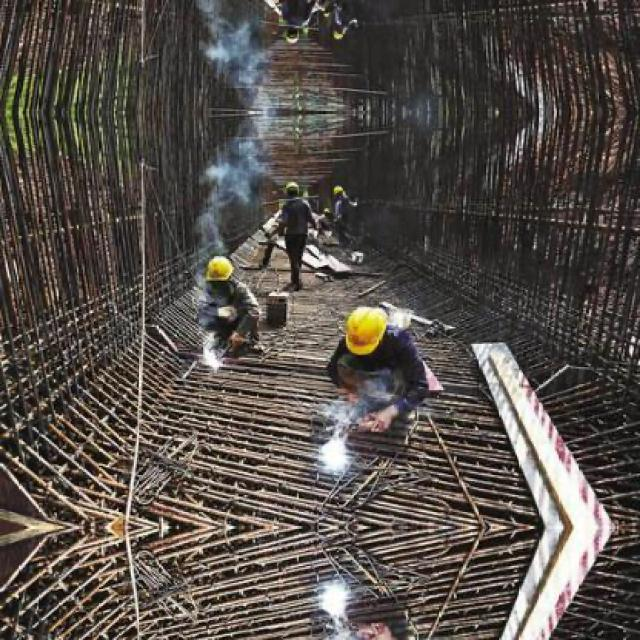helmet: (343, 304, 389, 355), (202, 253, 240, 291), (285, 24, 303, 48), (285, 179, 303, 202)
